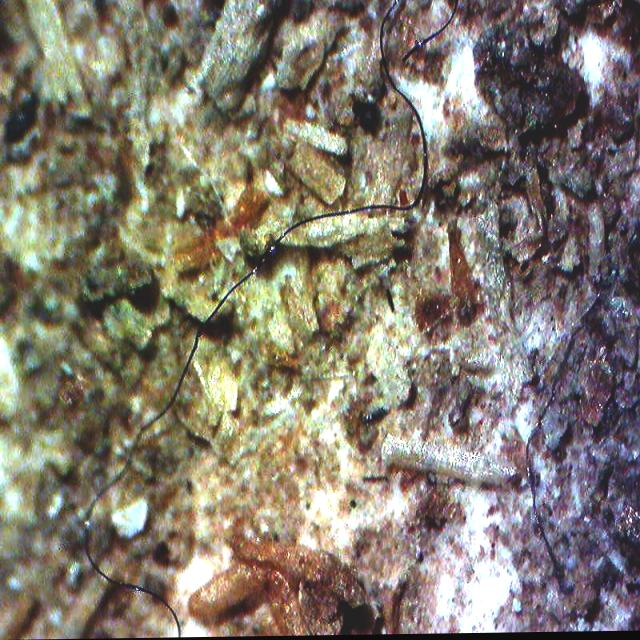microplastic: (55, 0, 502, 639), (401, 0, 466, 69)
